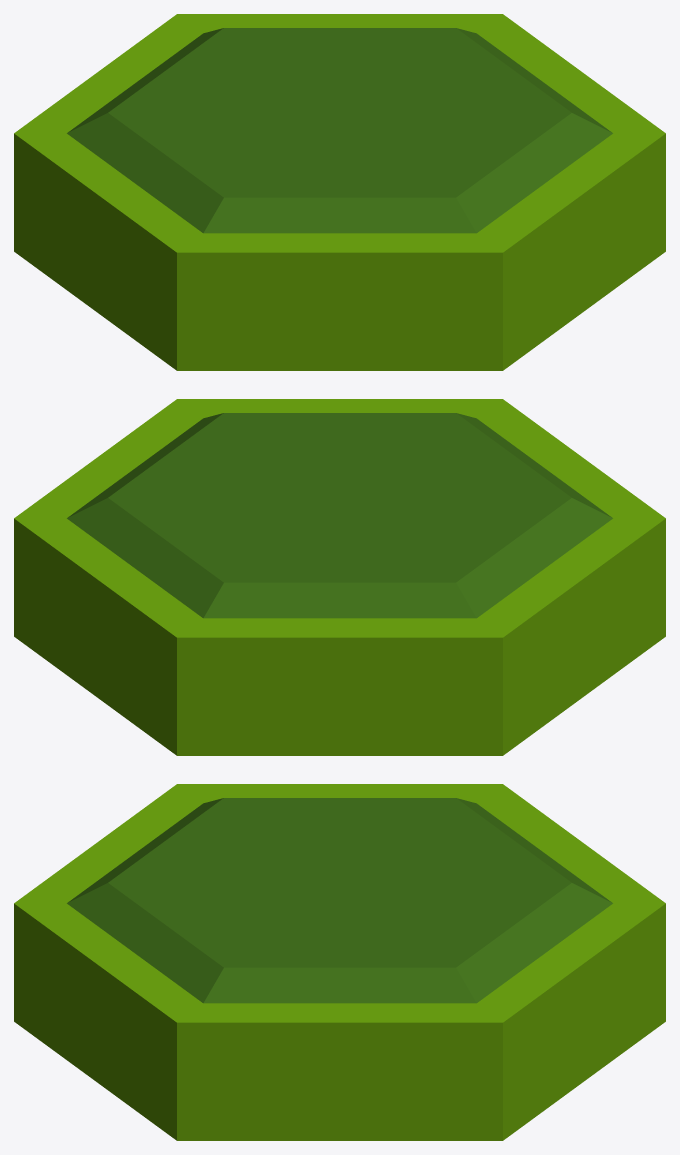
File: TileHex_03.fbx
The picture shows the model from 3 angles, top to bottom: view 1: azimuth 30°, elevation 25°; view 2: azimuth 150°, elevation 25°; view 3: azimuth 270°, elevation 25°; orthographic projection.
Visible parts, largest first — view 1: TileHex_03; view 2: TileHex_03; view 3: TileHex_03.
Part boxes in pixels (<box>): TileHex_03: <box>14,14,665,370</box>; TileHex_03: <box>14,399,665,755</box>; TileHex_03: <box>14,784,665,1140</box>.
Size of the model in its own units: 433 by 117 by 500.
